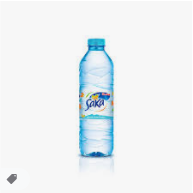Bottle: (77, 37, 115, 158)
